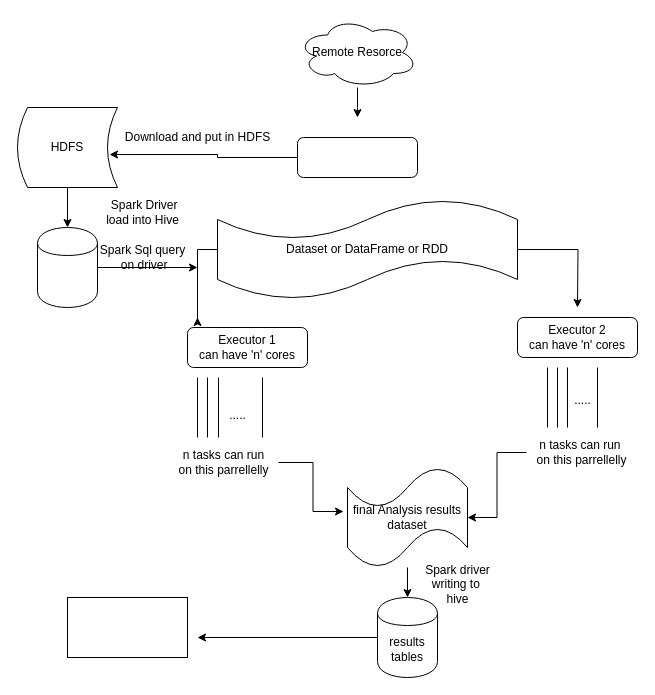
The diagram is 655 pixels wide and 695 high, and some of its shapes have lost their labels. The shapes that lost their labels are listed below. From the top down, each one's centre as x and y in pixels, then its label:
At pixel 357 157: "Spark Driver".
At pixel 67 267: "Hive Tables".
At pixel 127 627: "React App for Visualization".
